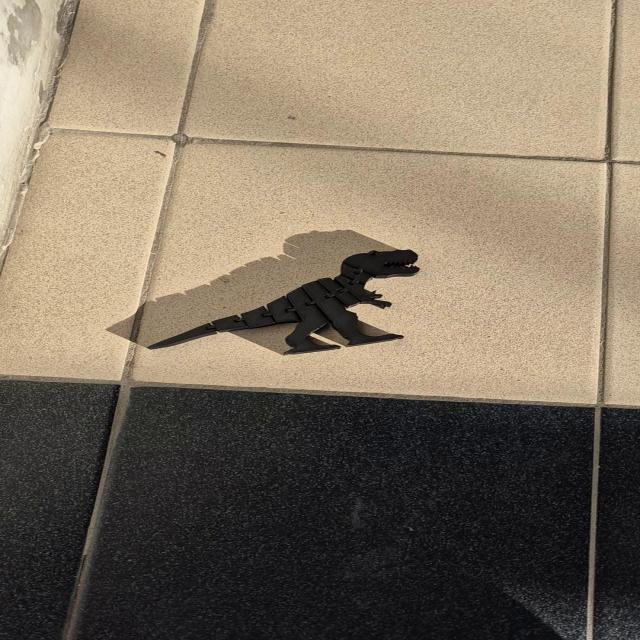dino: (146, 249, 421, 356)
